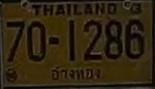0: (27, 20, 45, 60)
1: (68, 19, 74, 60)
2: (83, 19, 101, 59)
6: (124, 18, 144, 58)
7: (6, 20, 24, 61)
8: (104, 20, 121, 59)
ATG: (47, 64, 106, 83)
